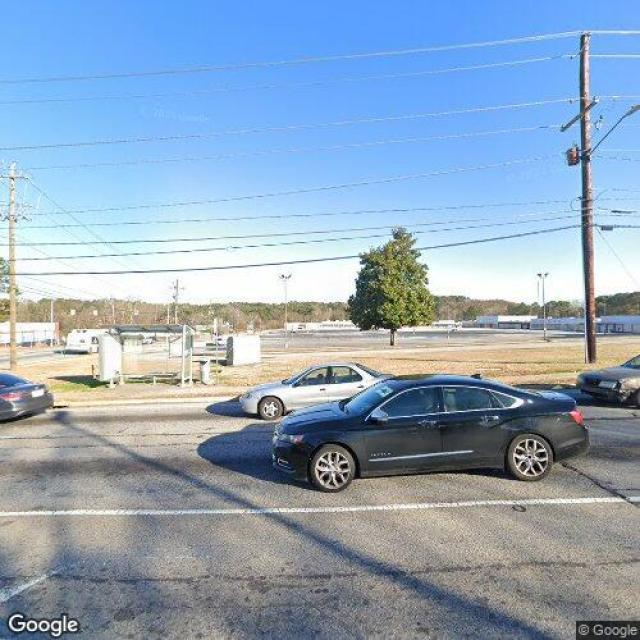seating: (147, 372, 178, 387)
shelter: (98, 324, 196, 391)
trash_can: (198, 361, 208, 384)
